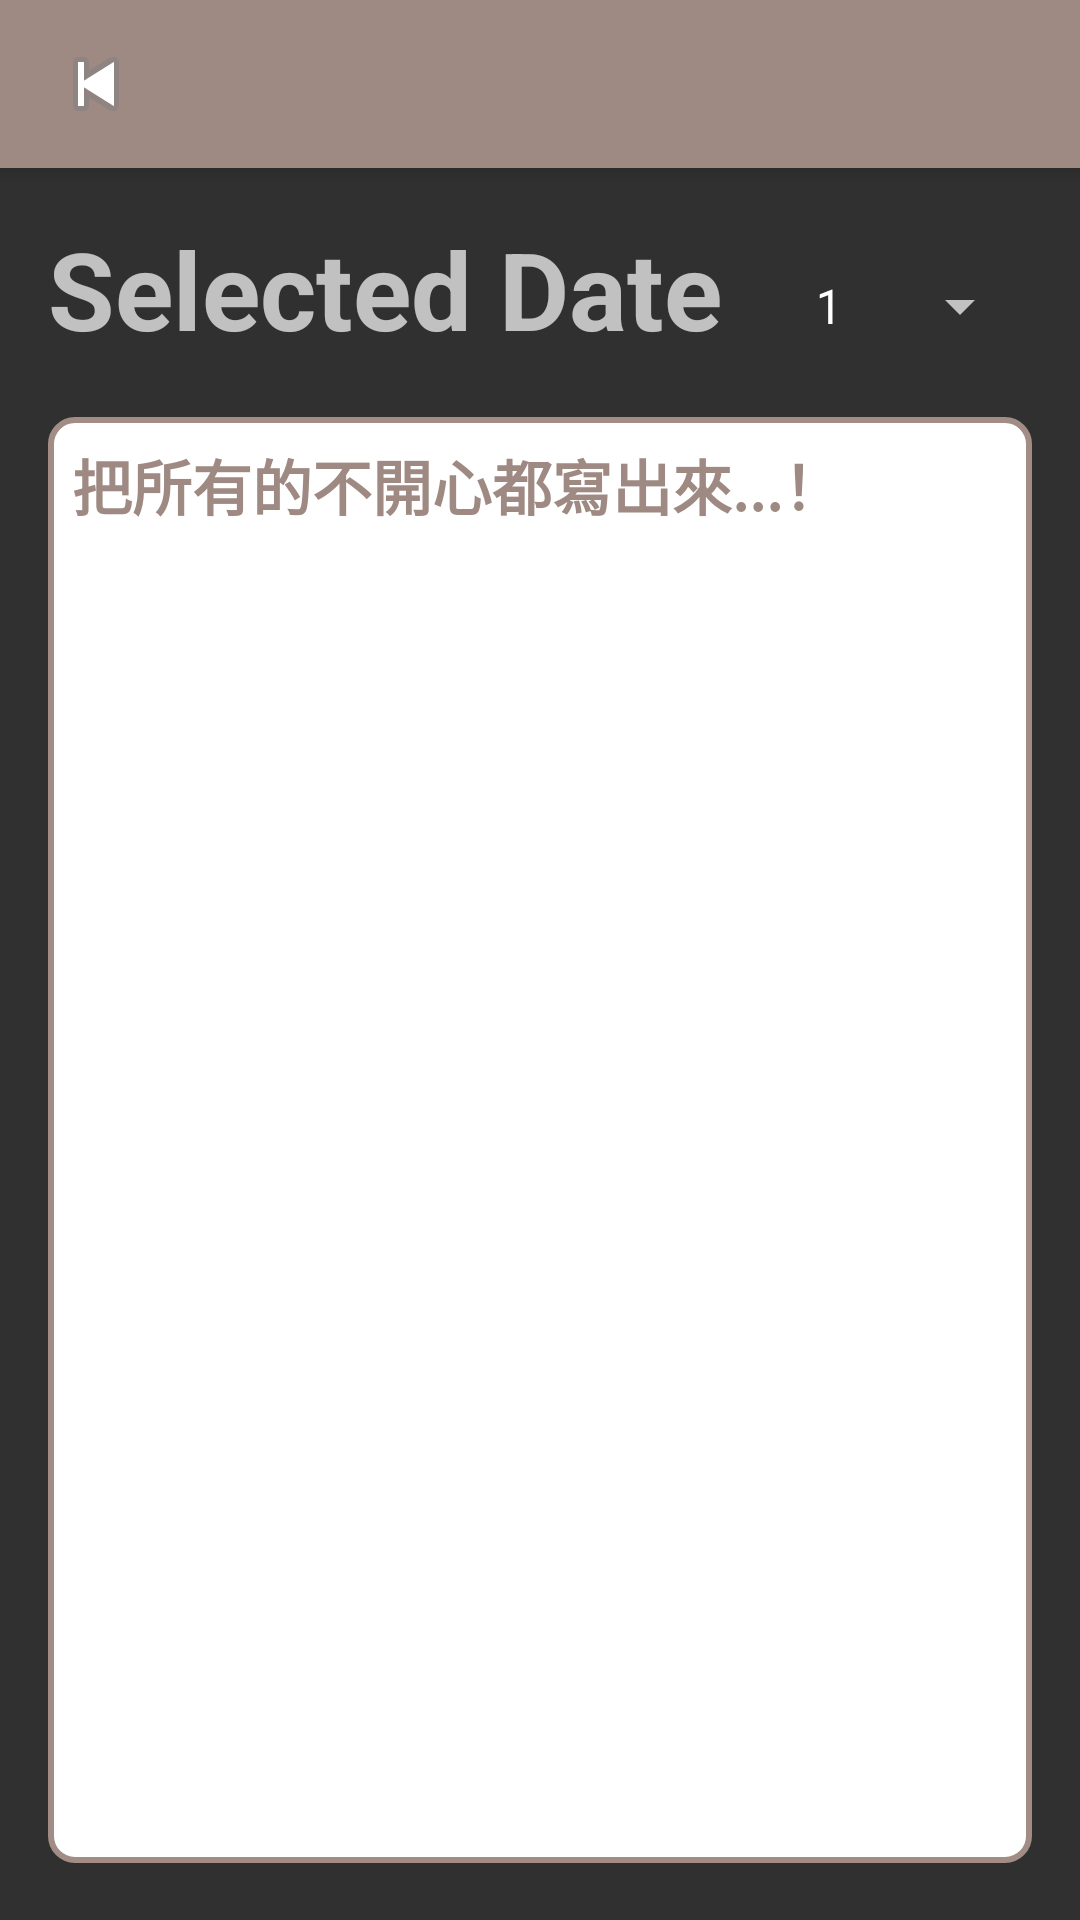

Icon bounding boxes for this 1080x1920 phone screenshot, format [x1, y1, x2, y2]:
Back: [78, 62, 114, 106]
